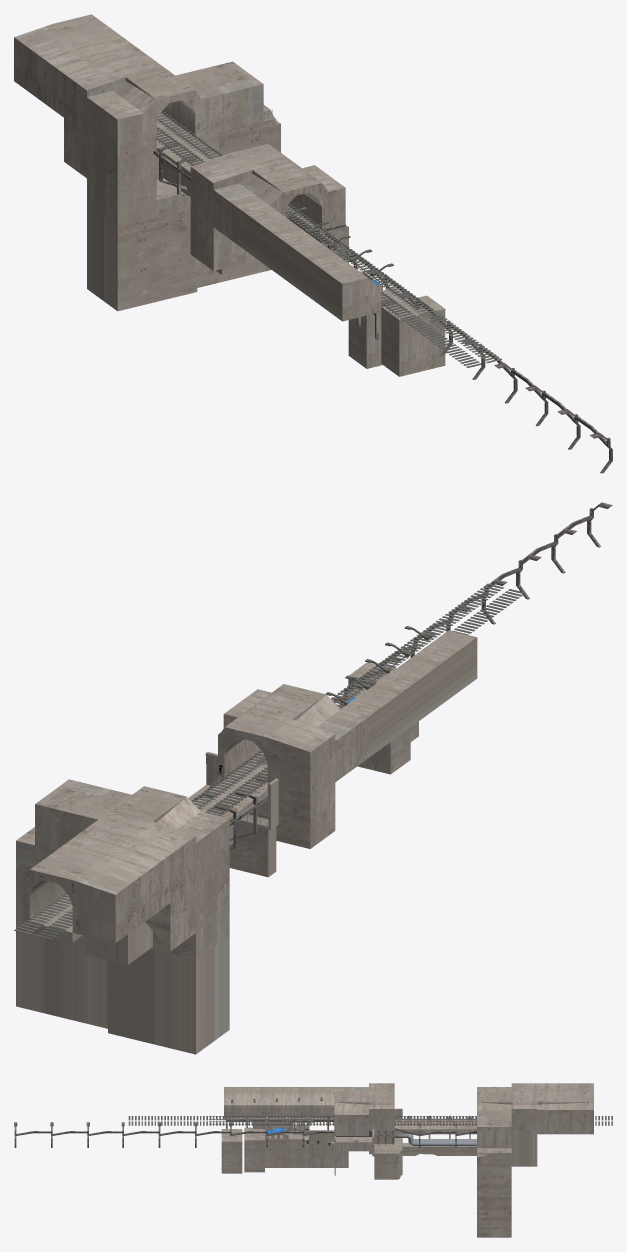
Rendered from PlayableArea_V2.glb.
The picture shows the model from 3 angles, top to bottom: view 1: azimuth 30°, elevation 25°; view 2: azimuth 150°, elevation 25°; view 3: azimuth 270°, elevation 25°; orthographic projection. The views are drawn at different scales.
Parts seen in each view (by area): view 1: Cube.071, Cube.062-col, Cube.066-col, Cube.037, Cube.042, Cube.038, Cube.041; view 2: Cube.071, Cube.062-col, Cube.037, Cube.042, Cube.038, Cube.066-col, Cube.041; view 3: Cube.071, Cube.062-col, Plane-col, Cube.066-col, Cube.042, Cube.037, Cube.038, Cube.059-col, Cylinder.010-col, Cube.040, Cube.039, Cube.041 (+1 smaller).
Part boxes in pixels (box(x1,y1,x2,y2)): Cube.071: box(14, 14, 280, 311); Cube.062-col: box(163, 144, 381, 321); Cube.066-col: box(348, 287, 445, 376); Cube.037: box(157, 110, 501, 363); Cube.042: box(324, 232, 612, 473); Cube.038: box(156, 126, 482, 367); Cube.041: box(153, 141, 396, 339); Cube.071: box(16, 779, 267, 1054); Cube.062-col: box(188, 630, 477, 877); Cube.037: box(14, 583, 504, 934); Cube.042: box(332, 502, 612, 705); Cube.038: box(36, 589, 525, 939); Cube.066-col: box(340, 662, 418, 774); Cube.041: box(214, 774, 268, 849); Cube.071: box(394, 1083, 593, 1237); Cube.062-col: box(224, 1083, 476, 1179); Plane-col: box(253, 1121, 372, 1167); Cube.066-col: box(221, 1127, 264, 1173); Cube.042: box(14, 1122, 334, 1147); Cube.037: box(128, 1121, 612, 1125); Cube.038: box(128, 1116, 612, 1120); Cube.059-col: box(334, 1129, 374, 1175); Cylinder.010-col: box(394, 1134, 476, 1145); Cube.040: box(208, 1116, 476, 1119); Cube.039: box(209, 1121, 476, 1124); Cube.041: box(224, 1115, 471, 1142).
Bounding box in the file's own units: 65.87 × 77.94 × 372.
Materials: 58 (56 with a texture image).
